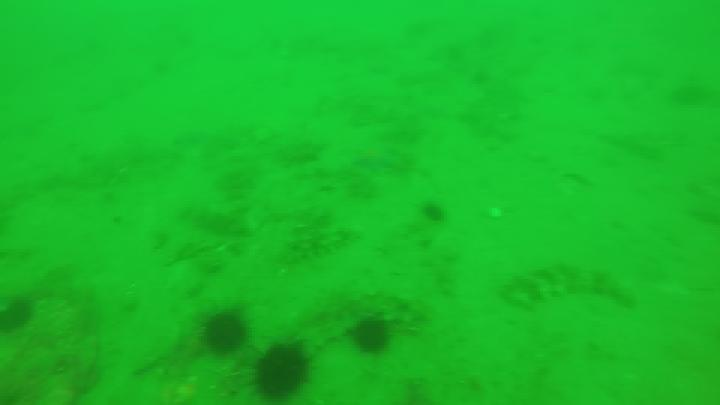echinus: (259, 339, 317, 395), (355, 316, 393, 356), (205, 318, 244, 354), (6, 294, 24, 335)
holothurian: (504, 261, 635, 312)
starfish: (353, 146, 402, 175)
